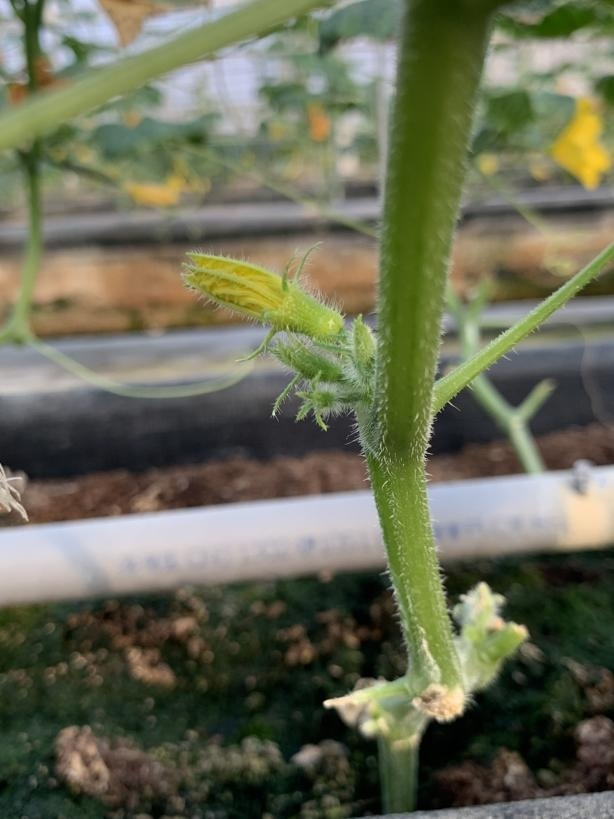bud: (175, 236, 330, 367)
